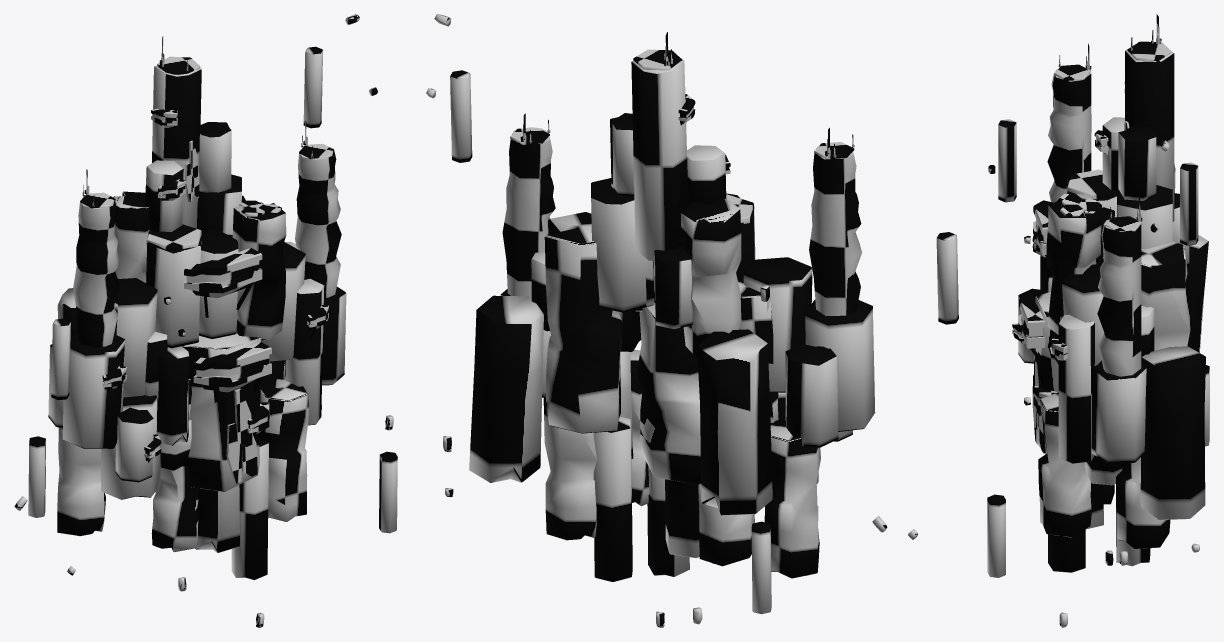
The model's file is streuner_homebase.obj.
The picture shows the model from 3 angles, left to right: view 1: azimuth 30°, elevation 25°; view 2: azimuth 150°, elevation 25°; view 3: azimuth 270°, elevation 25°; orthographic projection. The views are drawn at different scales.
Visible parts, largest first — view 1: lowpoly_ingame; view 2: lowpoly_ingame; view 3: lowpoly_ingame.
Boxes of the visible parts, box(x1,y1,x2,y2) form: lowpoly_ingame: box(14, 14, 397, 627); lowpoly_ingame: box(426, 14, 958, 627); lowpoly_ingame: box(987, 14, 1209, 627).
Size of the model in its own units: 39.01 by 53.53 by 18.36.
Materials: 1 (1 with a texture image).
